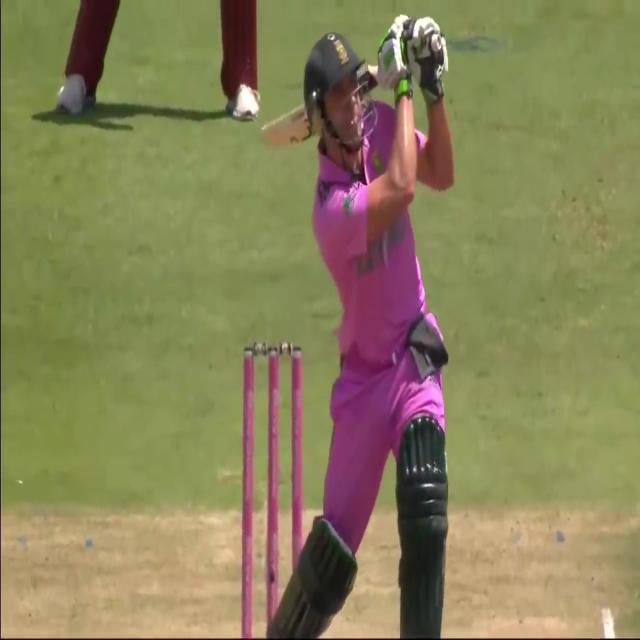Ball: (297, 14, 455, 636)
